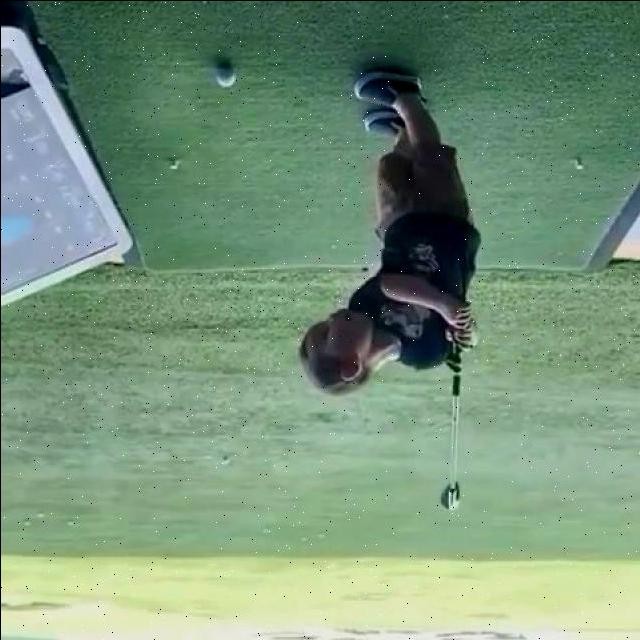golf ball: (216, 66, 236, 89)
golf club-handle: (436, 324, 468, 513)
golf club-head: (436, 485, 464, 508)
